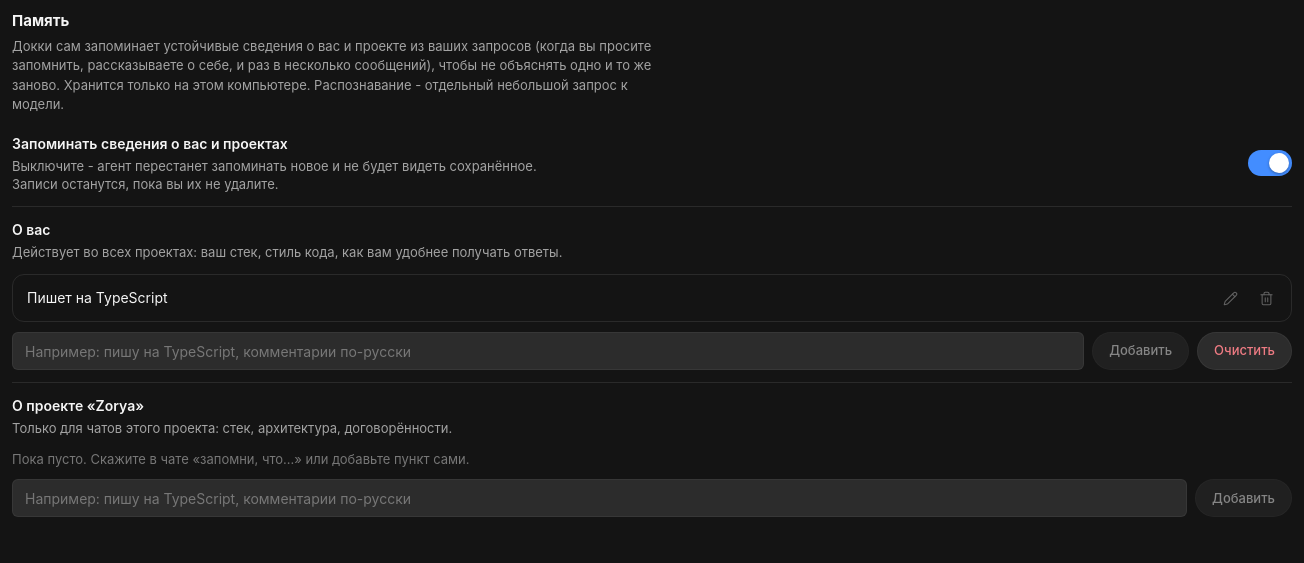
it: память о пользователе и проекте › показывает оба раздела и добавляет пункт в память проекта
Expected: the text "Пишет на TypeScript" is shown, [27,289,168,306]
Type "Лицензия GPL-3.0" into the field named "Добавить в память: О проекте «Zorya»" at (600, 498), box [12,479,1187,517]
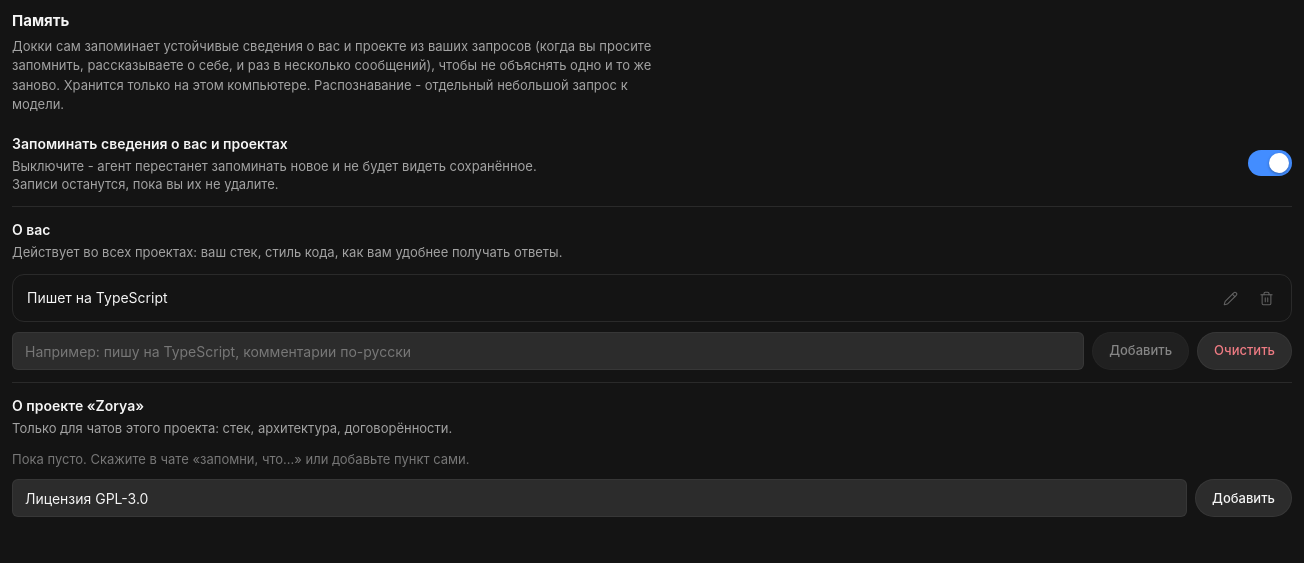
Press Enter in the field named "Добавить в память: О проекте «Zorya»", box [12,479,1187,517]
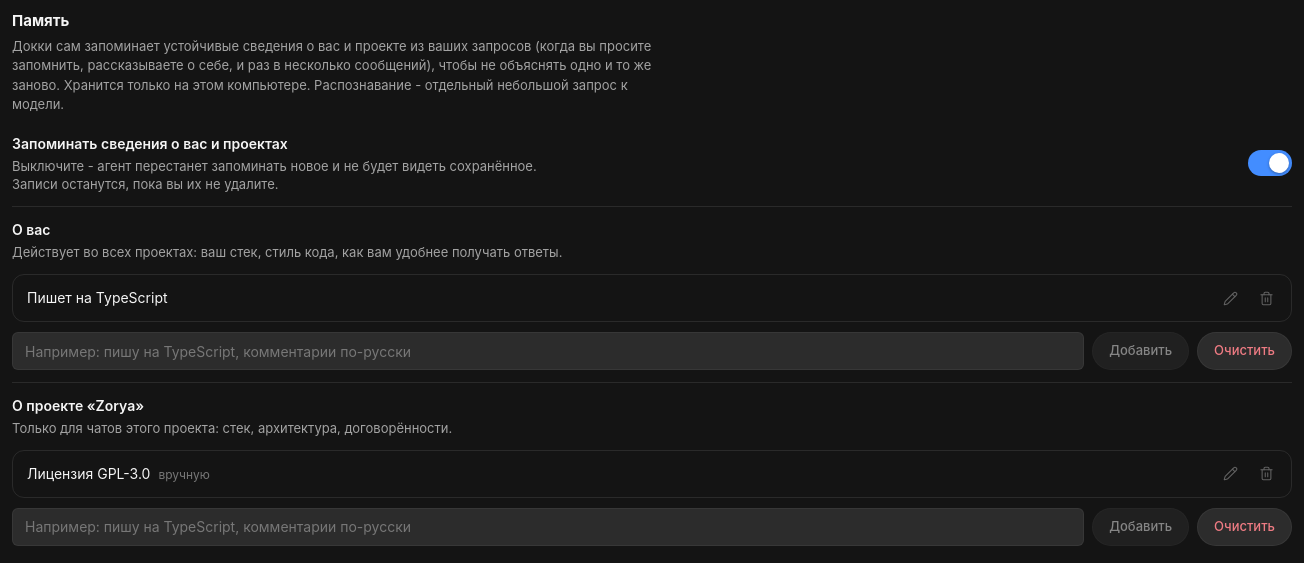
Now the text "Лицензия GPL-3.0" is shown, box [27,465,150,482]
